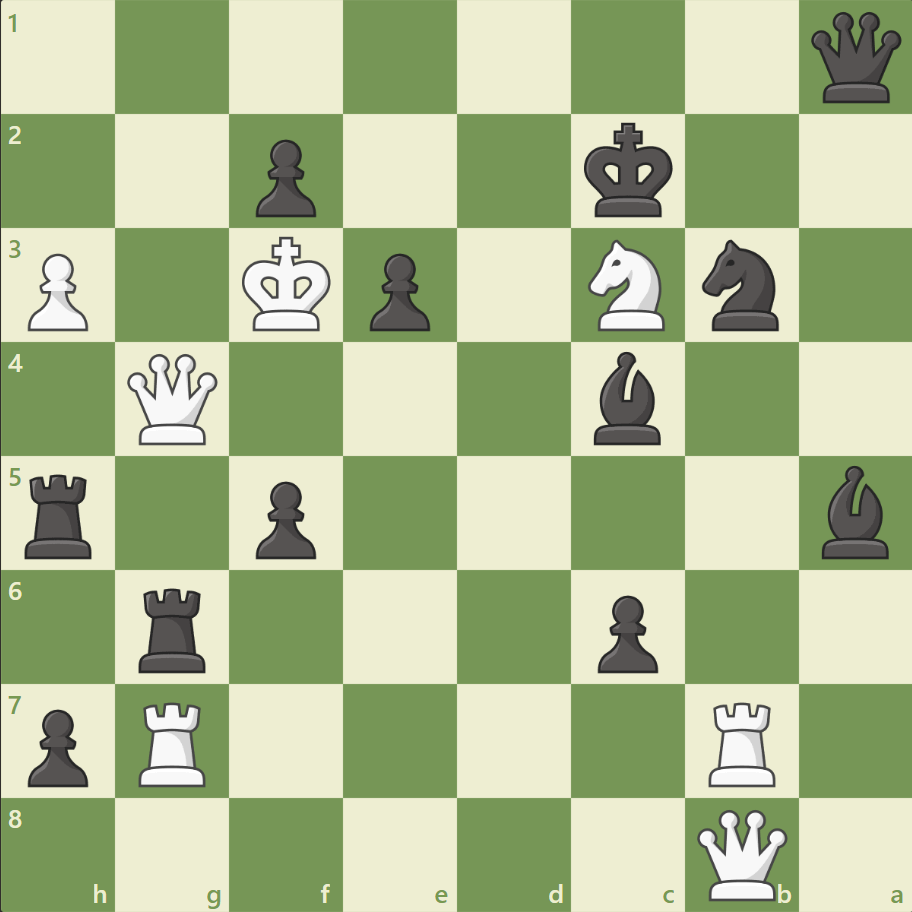K: (238, 231, 338, 339)
N: (579, 234, 676, 337)
P: (20, 246, 95, 337)
Q: (124, 349, 223, 449), (691, 804, 790, 903)
R: (700, 693, 783, 790), (133, 693, 215, 790)
b: (812, 460, 896, 563), (585, 347, 669, 449)
k: (579, 117, 679, 225)
n: (692, 234, 789, 337)
p: (20, 700, 95, 791), (247, 473, 322, 564), (247, 132, 322, 223), (588, 586, 662, 677), (361, 246, 435, 337)
q: (805, 9, 904, 108)
r: (19, 466, 102, 563), (133, 579, 215, 676)
